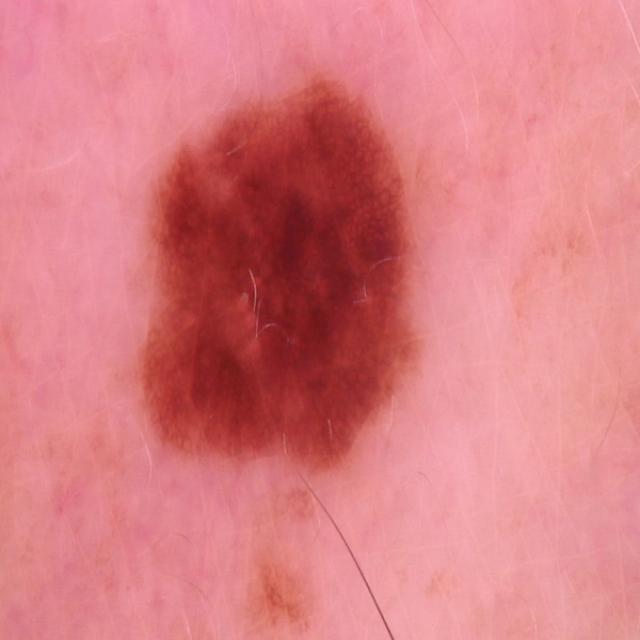NV: (132, 68, 426, 475)
